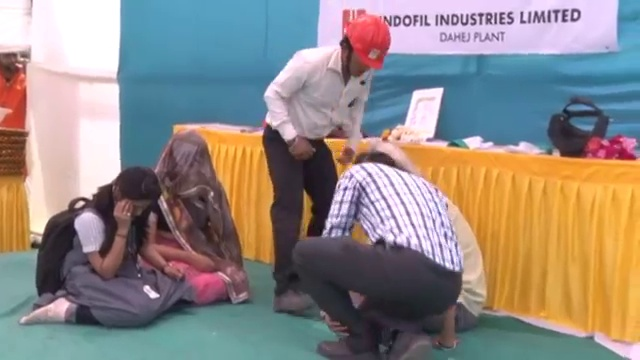helmet: (342, 15, 391, 71)
helmet_off: (159, 134, 217, 203), (98, 165, 164, 217), (0, 48, 25, 76)
helmet_on: (334, 18, 393, 82)
person: (291, 155, 464, 360), (263, 21, 379, 315), (18, 165, 185, 329), (142, 125, 247, 306), (0, 45, 31, 127)
